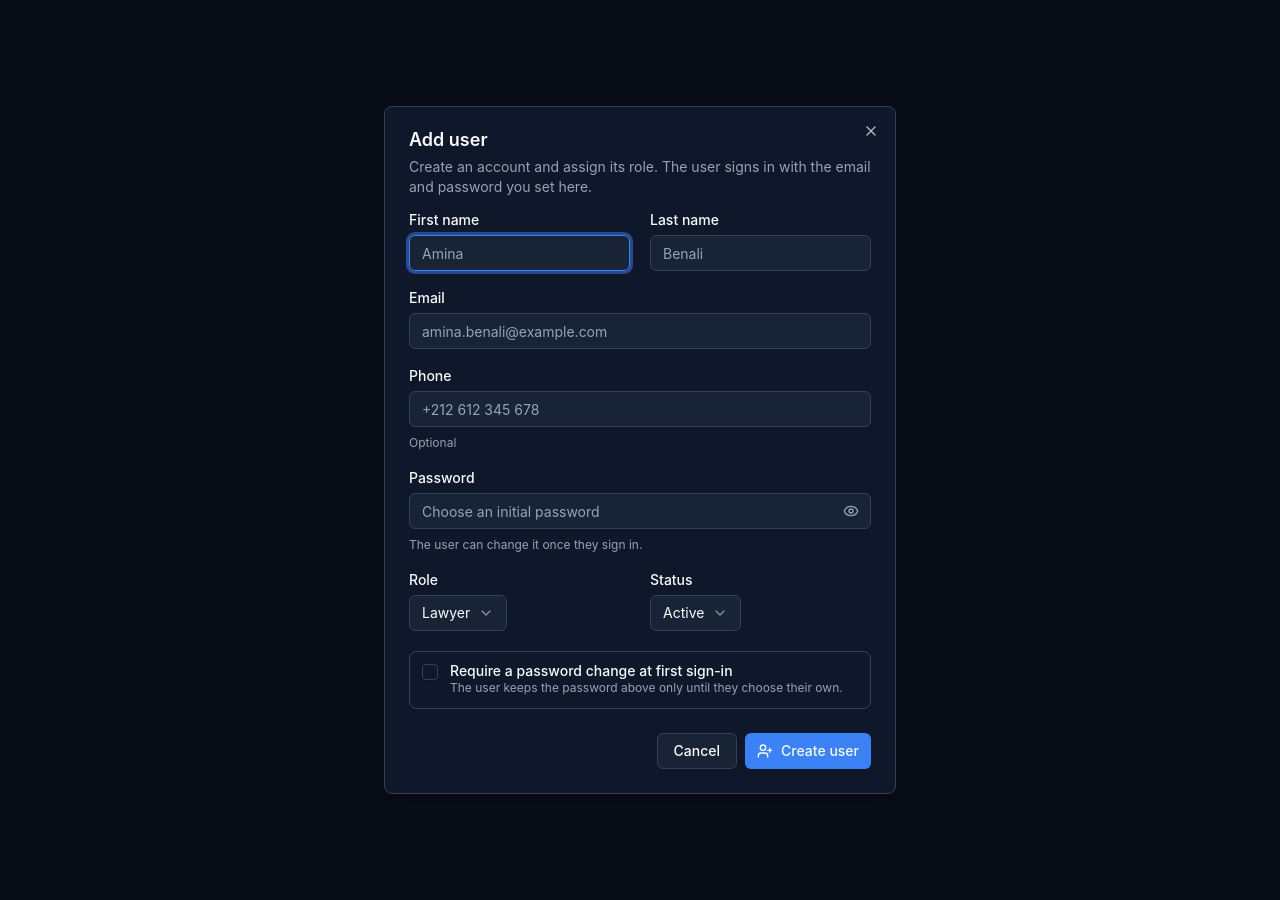
Scenario: CreateUserDialog › shows a field-level message for a malformed email
Step 1. Type "not-an-email" into the field labelled "Email" → [640, 331], box [409,313,871,349]
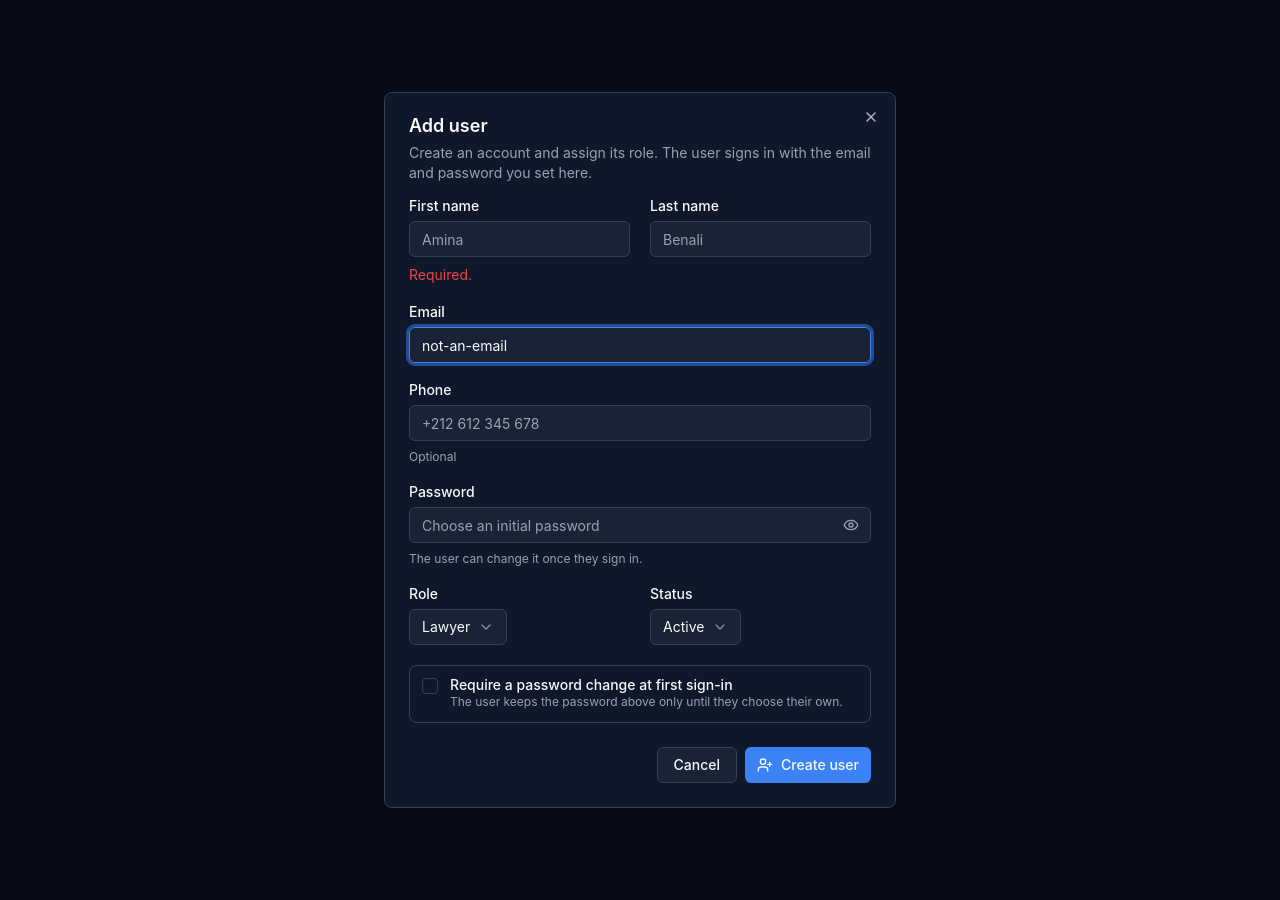
Step 2. Click the button "Create user" → [808, 765], box [745,747,871,783]
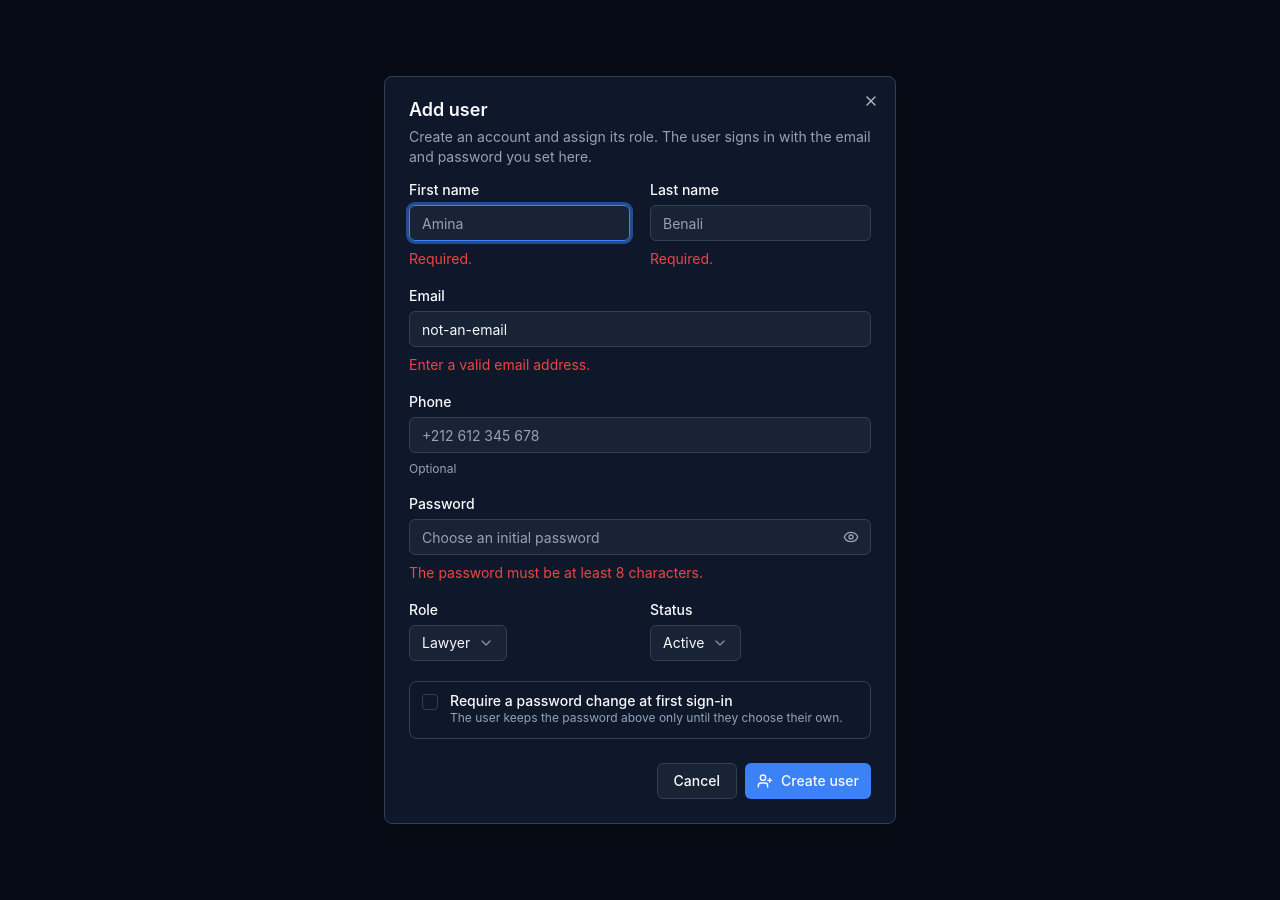
expect the text "Enter a valid email address." is shown: met, box [409,356,590,373]
